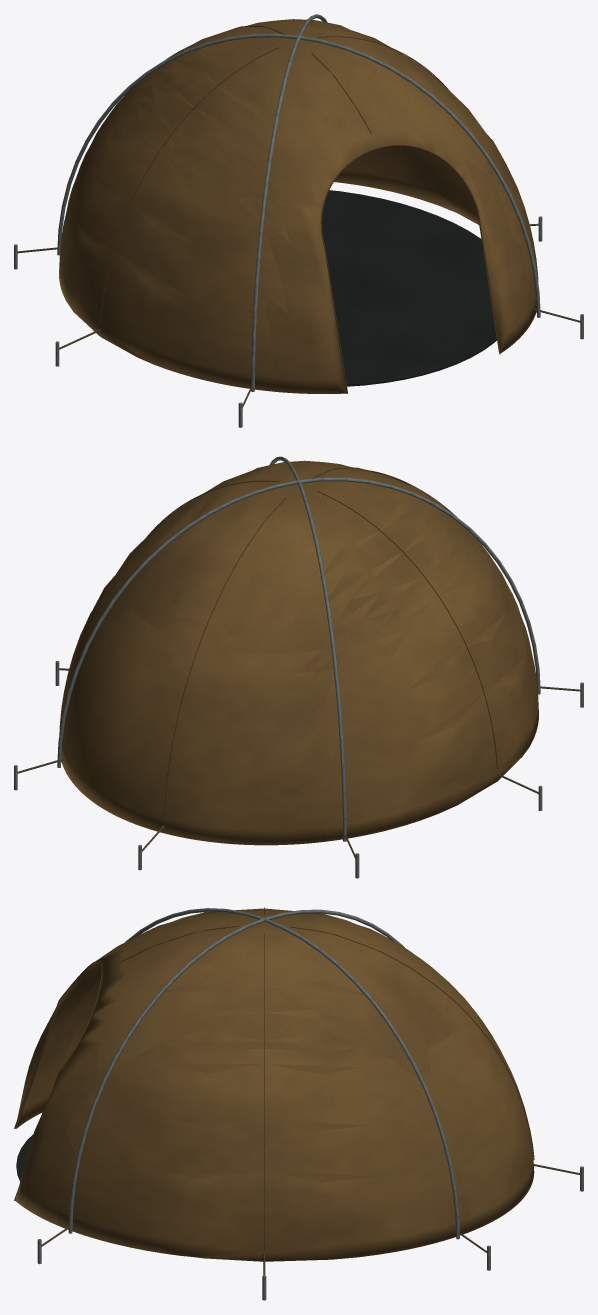
File: level_camp_tent_fitted_pitch_02_siteart.glb
The picture shows the model from 3 angles, top to bottom: view 1: azimuth 30°, elevation 25°; view 2: azimuth 150°, elevation 25°; view 3: azimuth 270°, elevation 25°; orthographic projection.
Parts seen in each view (by area): view 1: level_camp_tent_fitted_pitch_02_siteart; view 2: level_camp_tent_fitted_pitch_02_siteart; view 3: level_camp_tent_fitted_pitch_02_siteart.
Boxes of the visible parts, x1,y1,x2,y2 form: level_camp_tent_fitted_pitch_02_siteart: (14, 14, 583, 427); level_camp_tent_fitted_pitch_02_siteart: (14, 456, 583, 878); level_camp_tent_fitted_pitch_02_siteart: (14, 907, 583, 1300).
Size of the model in its own units: 3.44 by 1.85 by 3.49.
5 materials, 5 textured.
